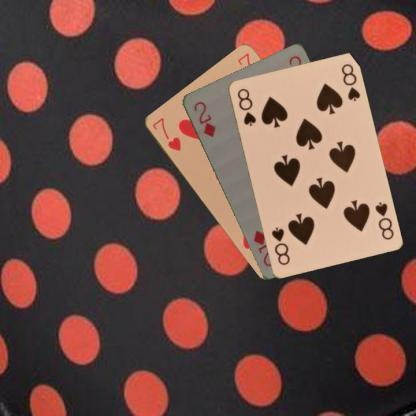2d: (190, 98, 218, 139)
7h: (149, 115, 182, 152)
8s: (372, 199, 395, 241), (234, 86, 257, 127)
